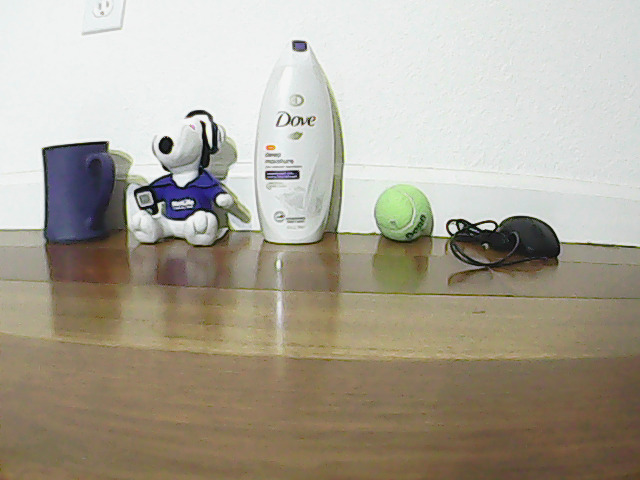ball: (371, 172, 436, 244)
mouse: (488, 201, 568, 264)
mug: (268, 37, 336, 250), (42, 119, 113, 246)
snoopy: (144, 107, 236, 243)
